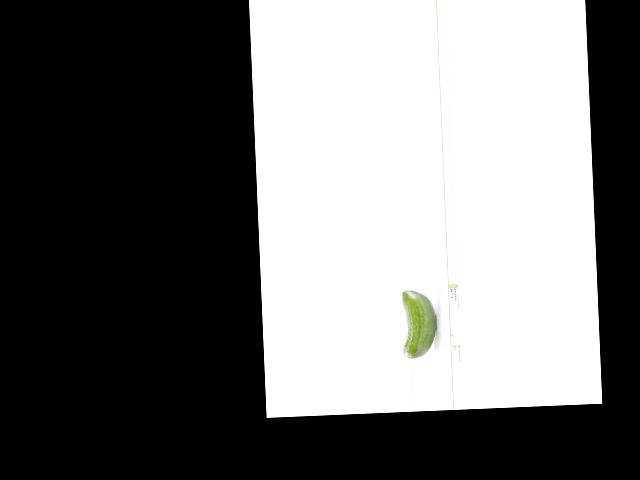cucumber: (401, 290, 438, 359)
